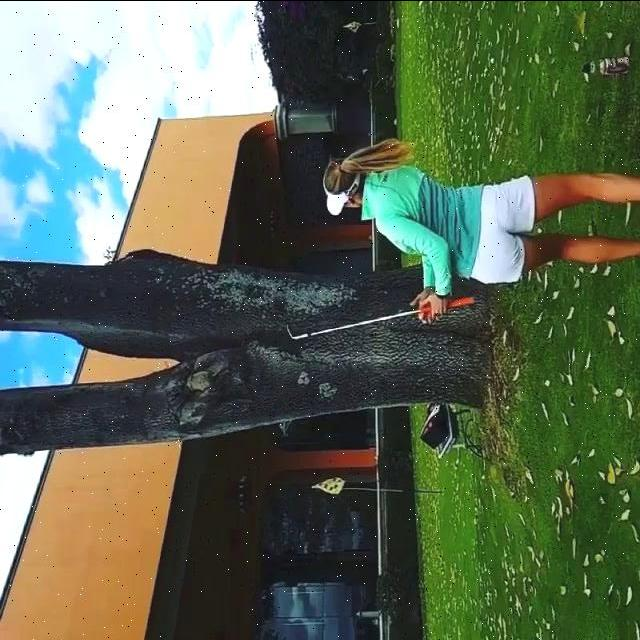golf club-handle: (285, 293, 477, 337)
golf club-head: (285, 324, 293, 337)
